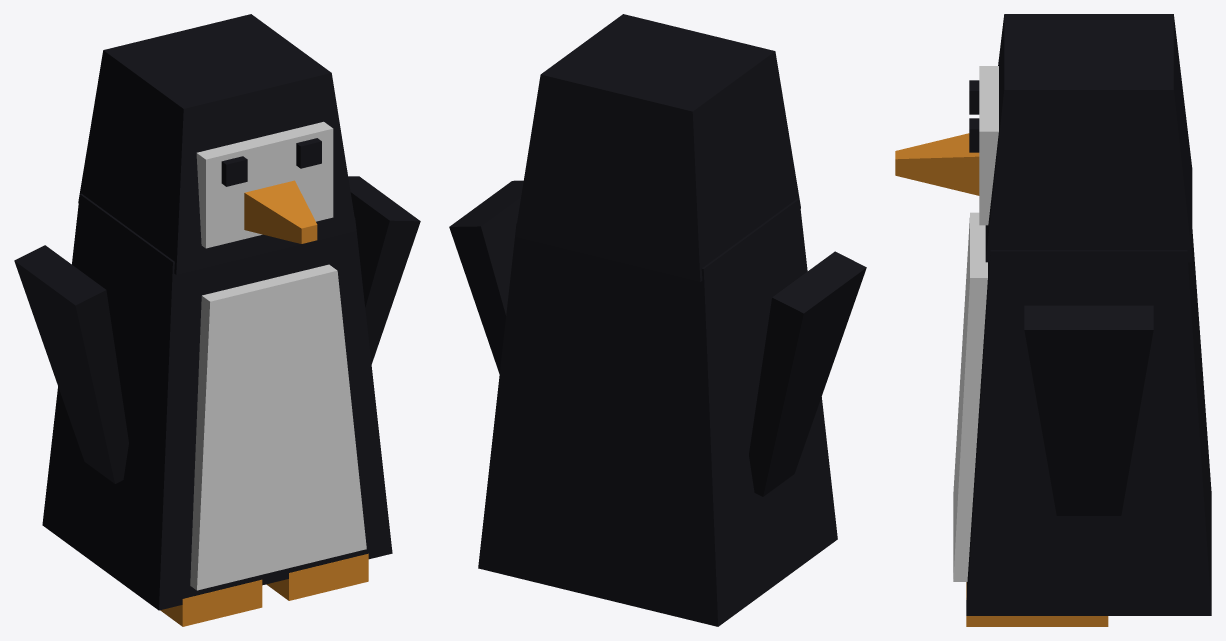
File: penguin.glb
3 renders of one model, left to right at view 1: azimuth 30°, elevation 25°; view 2: azimuth 150°, elevation 25°; view 3: azimuth 270°, elevation 25°, orthographic. The views are drawn at different scales.
Parts seen in each view (by area): view 1: penguin; view 2: penguin; view 3: penguin.
Boxes of the visible parts, box(x1,y1,x2,y2) form: penguin: box(14, 14, 420, 626); penguin: box(449, 14, 866, 626); penguin: box(895, 14, 1211, 626).
Bounding box in the file's own units: 0.6501 × 0.9 × 0.49.
